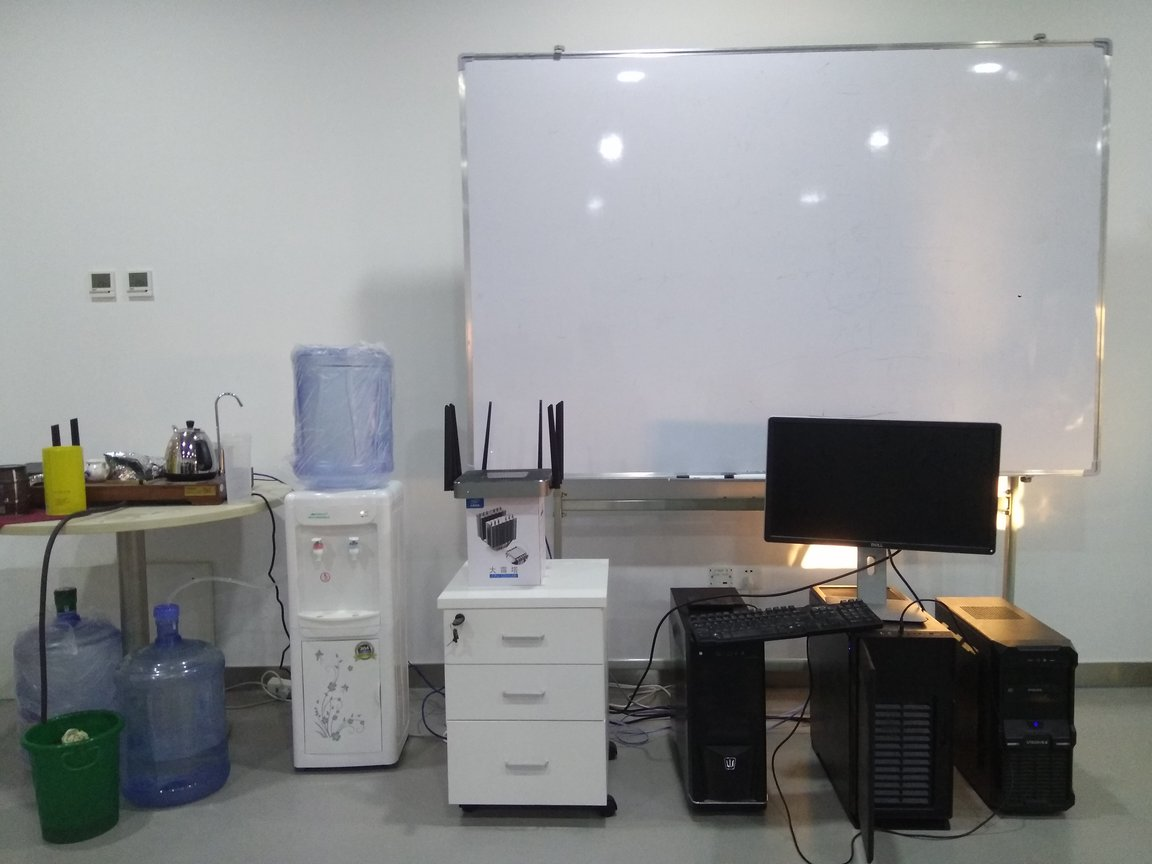computer: (806, 584, 959, 844), (933, 592, 1079, 820), (669, 584, 770, 836)
drawer chest: (439, 557, 618, 824)
monitor: (763, 417, 1006, 630)
scuttlebutt: (118, 601, 232, 817), (287, 338, 414, 501), (16, 587, 124, 775)
water dispenser: (283, 481, 412, 776)
